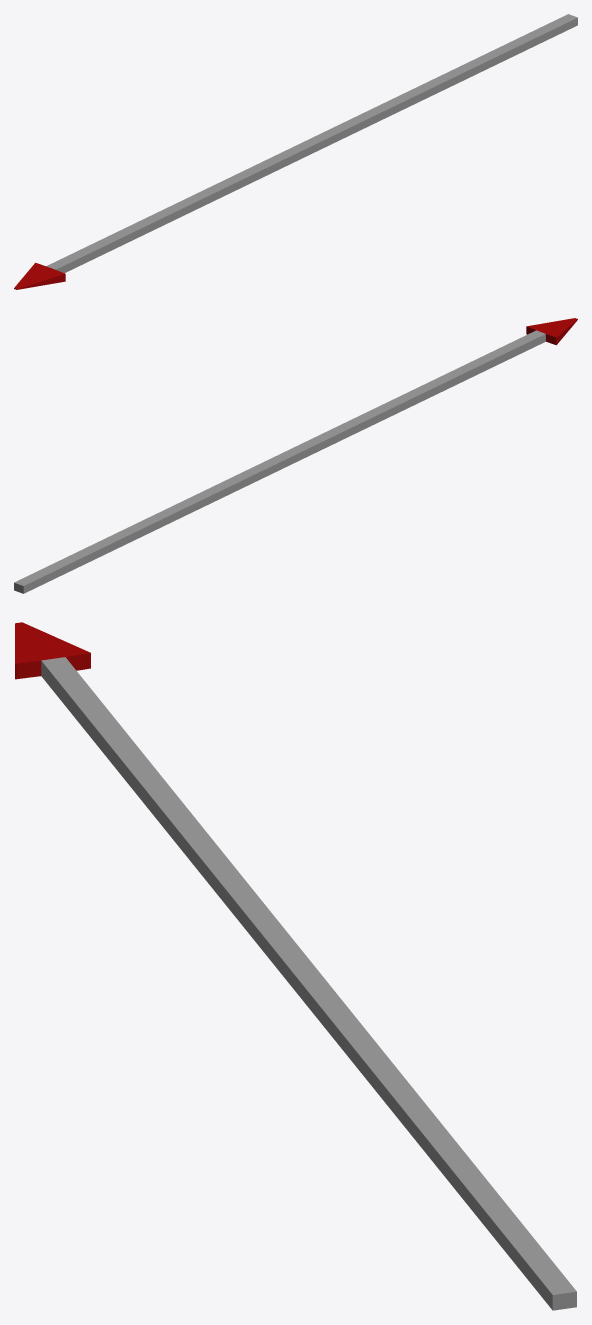
Rendered from Large_clockhand.fbx.
3 renders of one model, top to bottom at view 1: azimuth 30°, elevation 25°; view 2: azimuth 210°, elevation 25°; view 3: azimuth 270°, elevation 25°, orthographic. The views are drawn at different scales.
Parts seen in each view (by area): view 1: Large_clockhand; view 2: Large_clockhand; view 3: Large_clockhand.
Boxes of the visible parts, <box> form: Large_clockhand: <box>14,14,577,289</box>; Large_clockhand: <box>14,318,577,593</box>; Large_clockhand: <box>15,622,576,1310</box>.
Size of the model in its own units: 12.6 by 0.135 by 4.4.
